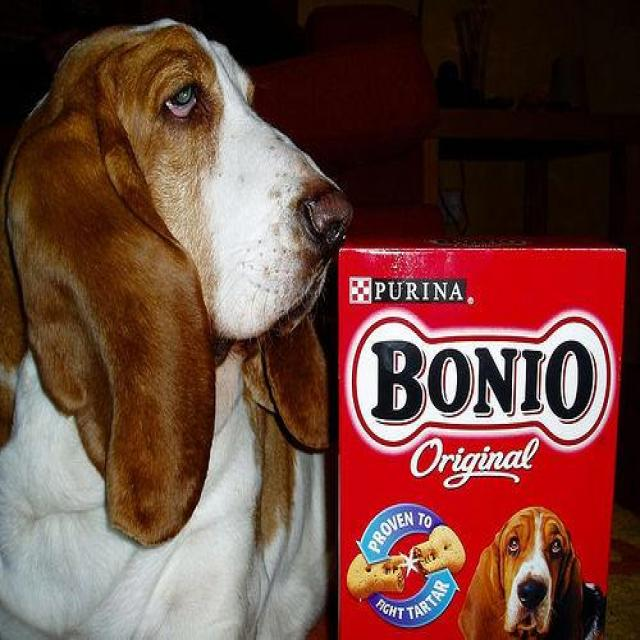basset: (1, 14, 355, 636)
